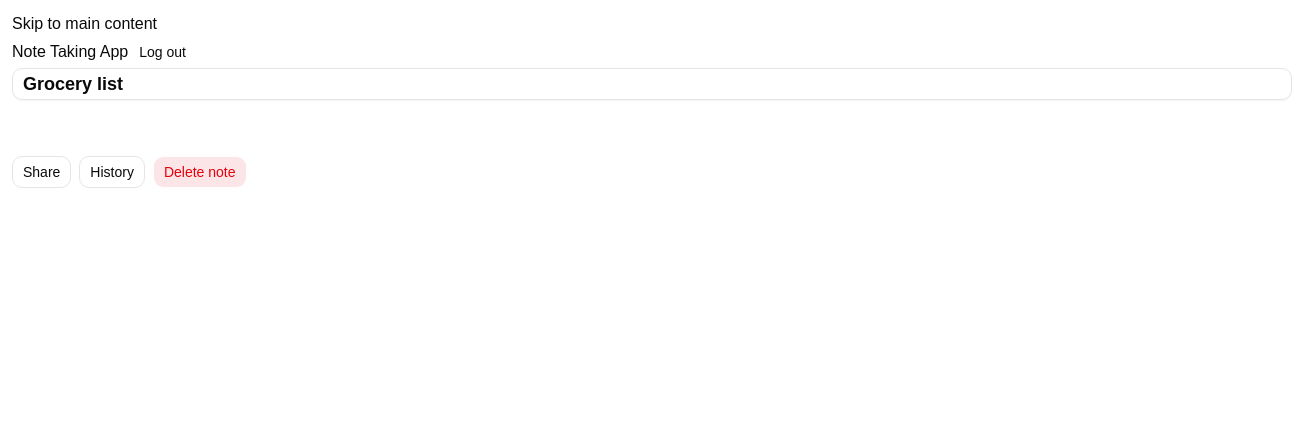
Test: share modal with an unrecoverable session › returns the user to /login when the share request 401s and the session cannot be refreshed
The image size is (1304, 434).
Step 1. Click the button "Share" → (42, 172), box [12,156,71,188]
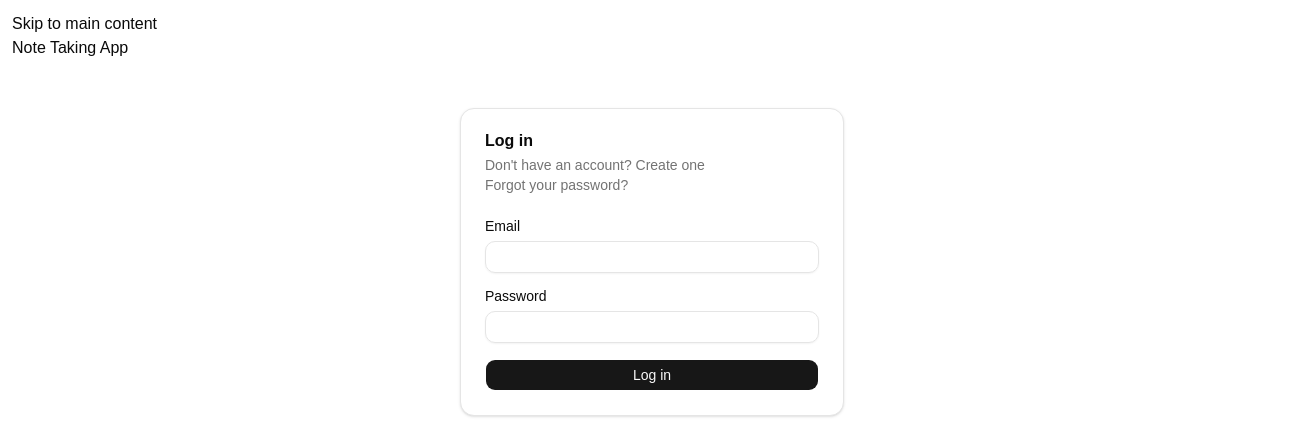
expect the link "Create one" is shown: met, box [636,157,705,173]
